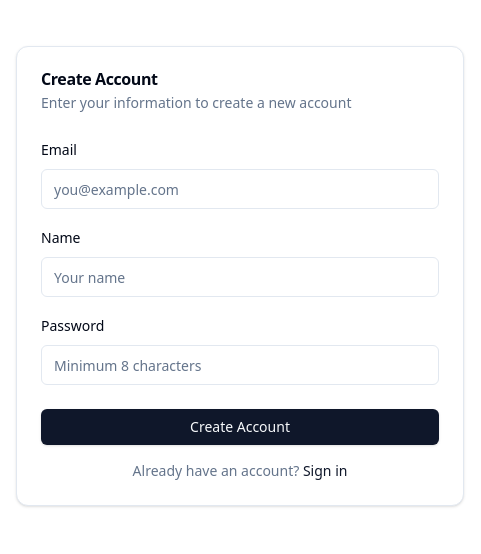
Test: RegisterPage - form interactions › error handling › should show unexpected error for non-AuthError errors
This screenshot has width=481, height=554.
Type "test@example.com" into the field with placeholder "you@example.com".
click(240, 189); type("test@example.com")  # box [41,169,439,209]
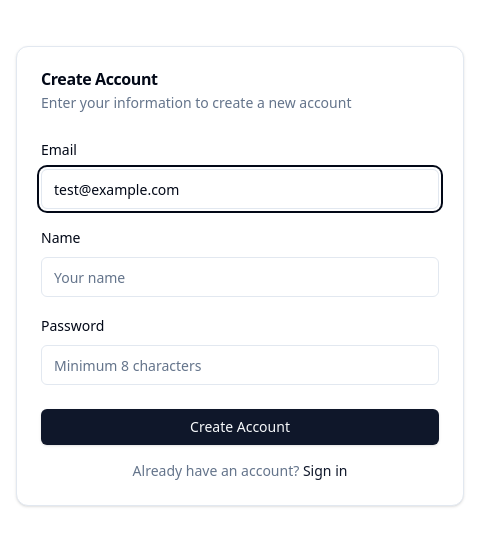
Type "Test User" into the field with placeholder "Your name".
click(240, 277); type("Test User")  # box [41,257,439,297]
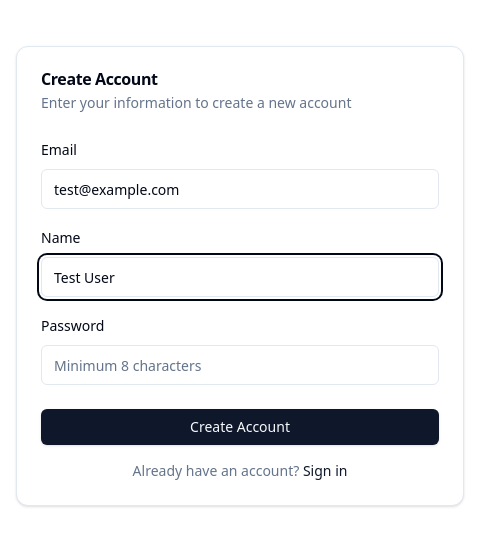
Type "Password123!" into the password field with placeholder "Minimum 8 characters".
click(240, 365); type("Password123!")  # box [41,345,439,385]
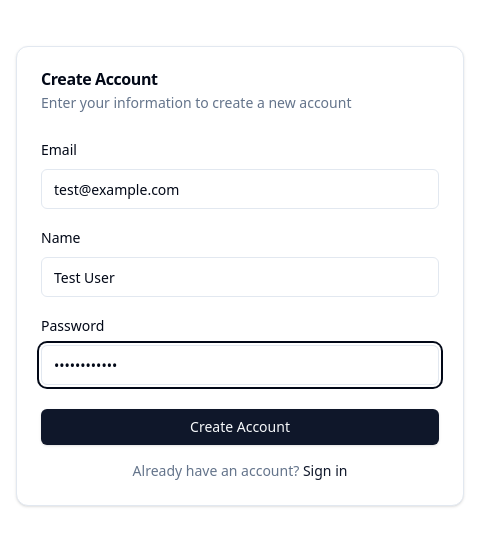
Click the submit button.
click(240, 427)  # box [41,409,439,445]
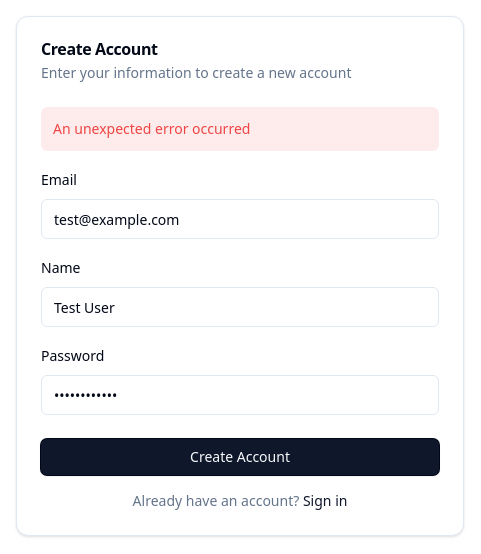
Check: the text "unexpected error" is shown, box [53,119,250,138]
